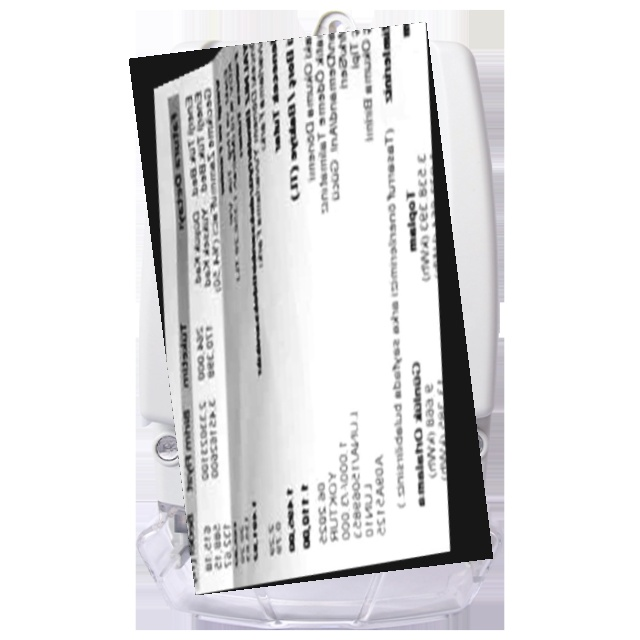electricity-bill: (128, 22, 492, 594)
